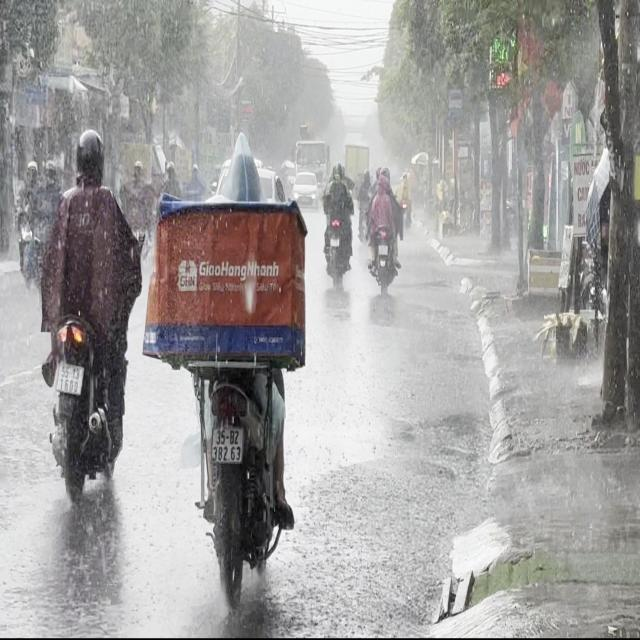helmet: (222, 130, 262, 209), (74, 127, 104, 183)
licenseplate: (143, 122, 311, 622), (36, 123, 138, 512)
nohelmet: (212, 426, 242, 461), (55, 364, 83, 394)
